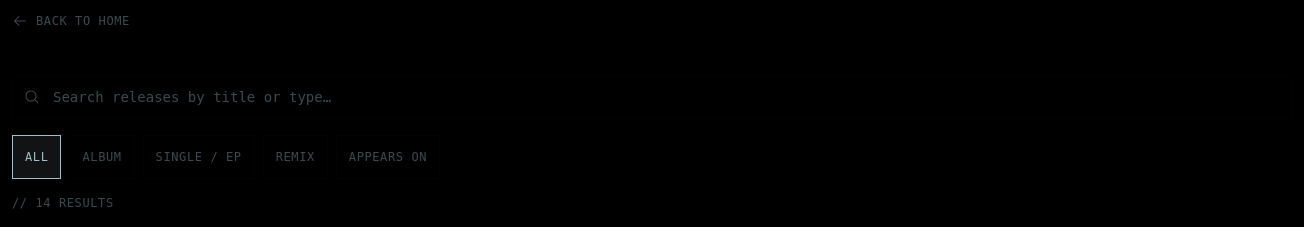
Test case: public browse pages › filters and paginates releases on the browse client
The image size is (1304, 227).
Type "EP 3" into the search field at (652,97), box [12,75,1292,119]
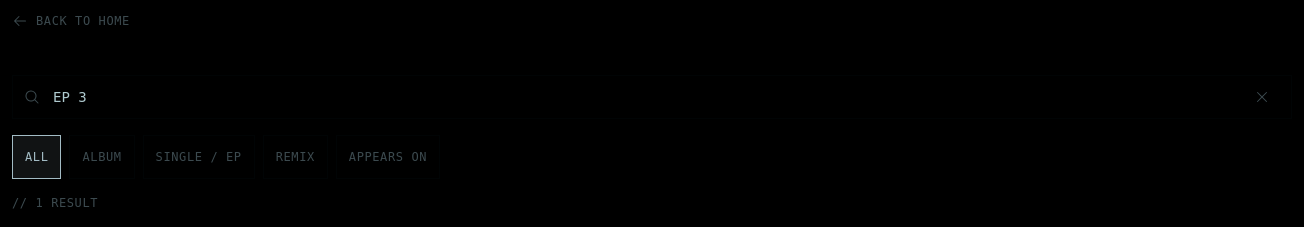
Expected: the text "// 1 result" is shown, [12,196,98,210]
Click the button named "Clear search" at (1262,97), box [1240,75,1284,119]
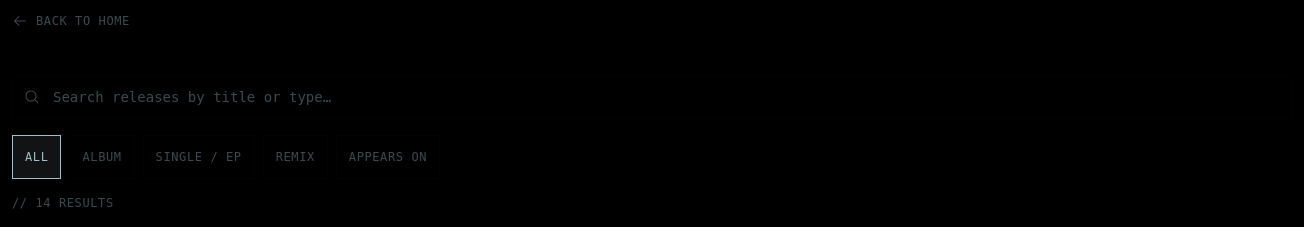
Click the button "Single / EP" at (199,157), box [143,135,255,179]
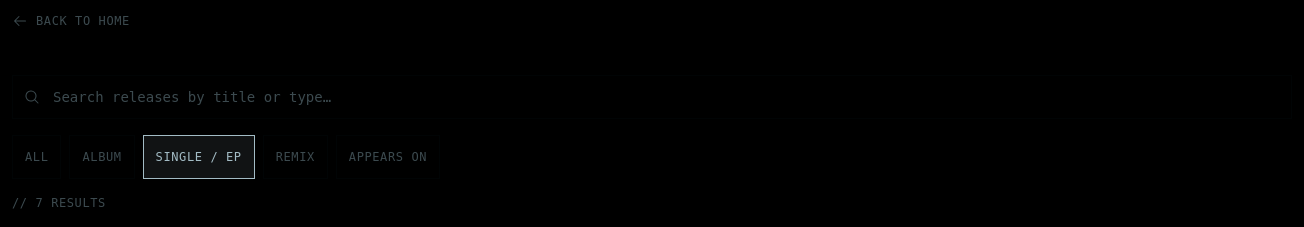
Expected: the text "// 7 results" is shown, [12,196,106,210]
